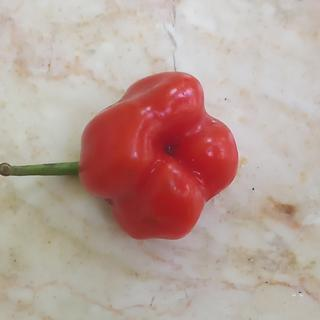Grade-B: (72, 58, 241, 244)
